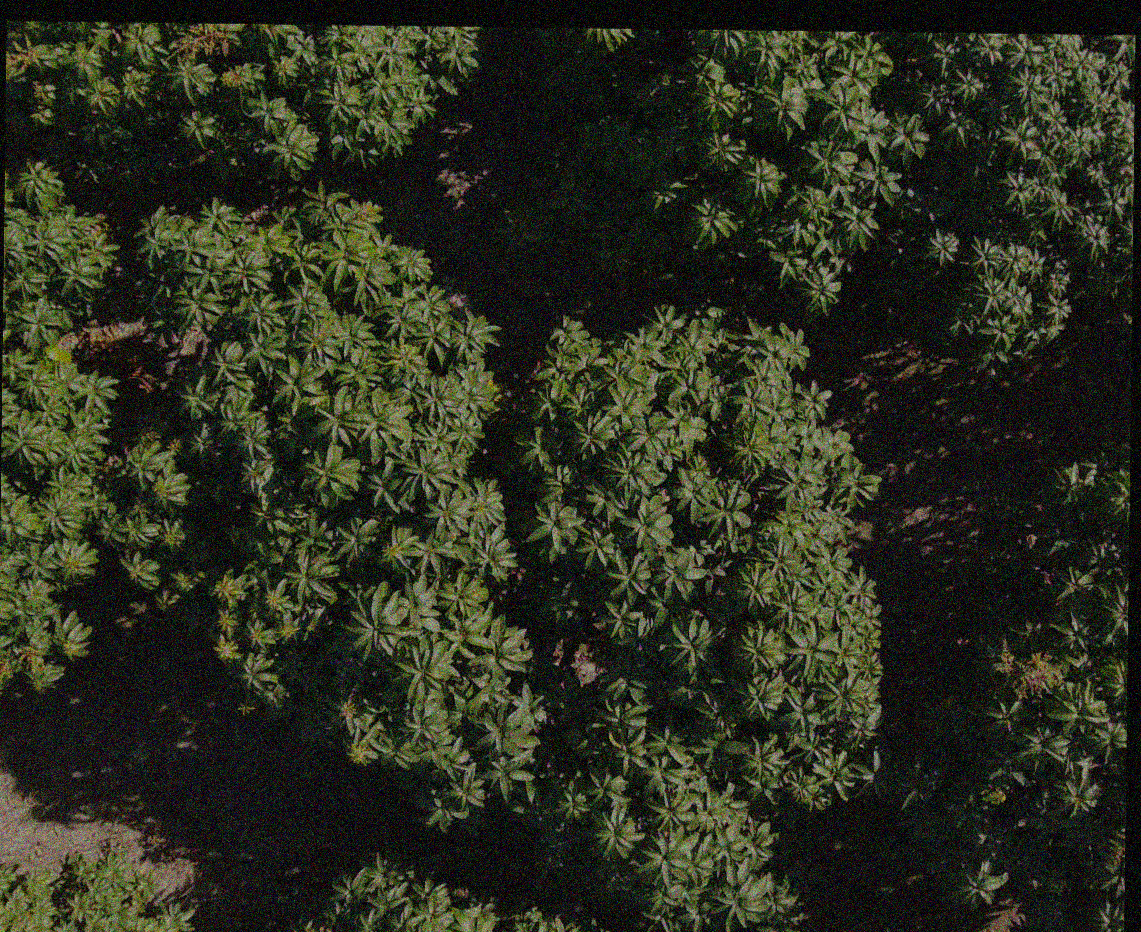flowers: (993, 644, 1064, 699), (172, 22, 229, 57), (220, 63, 255, 86), (1109, 827, 1125, 864)
